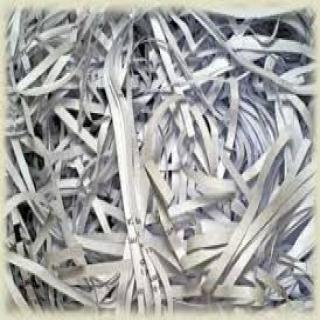PAPER: (2, 5, 314, 315)
